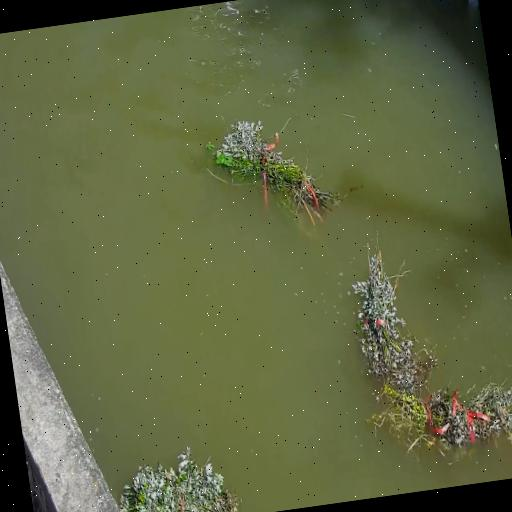twig: (205, 106, 348, 238), (360, 353, 512, 470), (335, 221, 435, 397), (107, 433, 241, 512)
